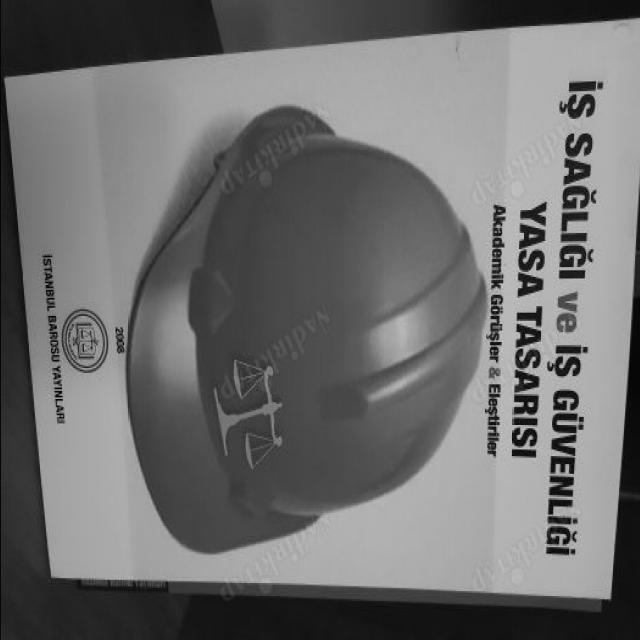safety_helmet: (123, 103, 483, 555)
